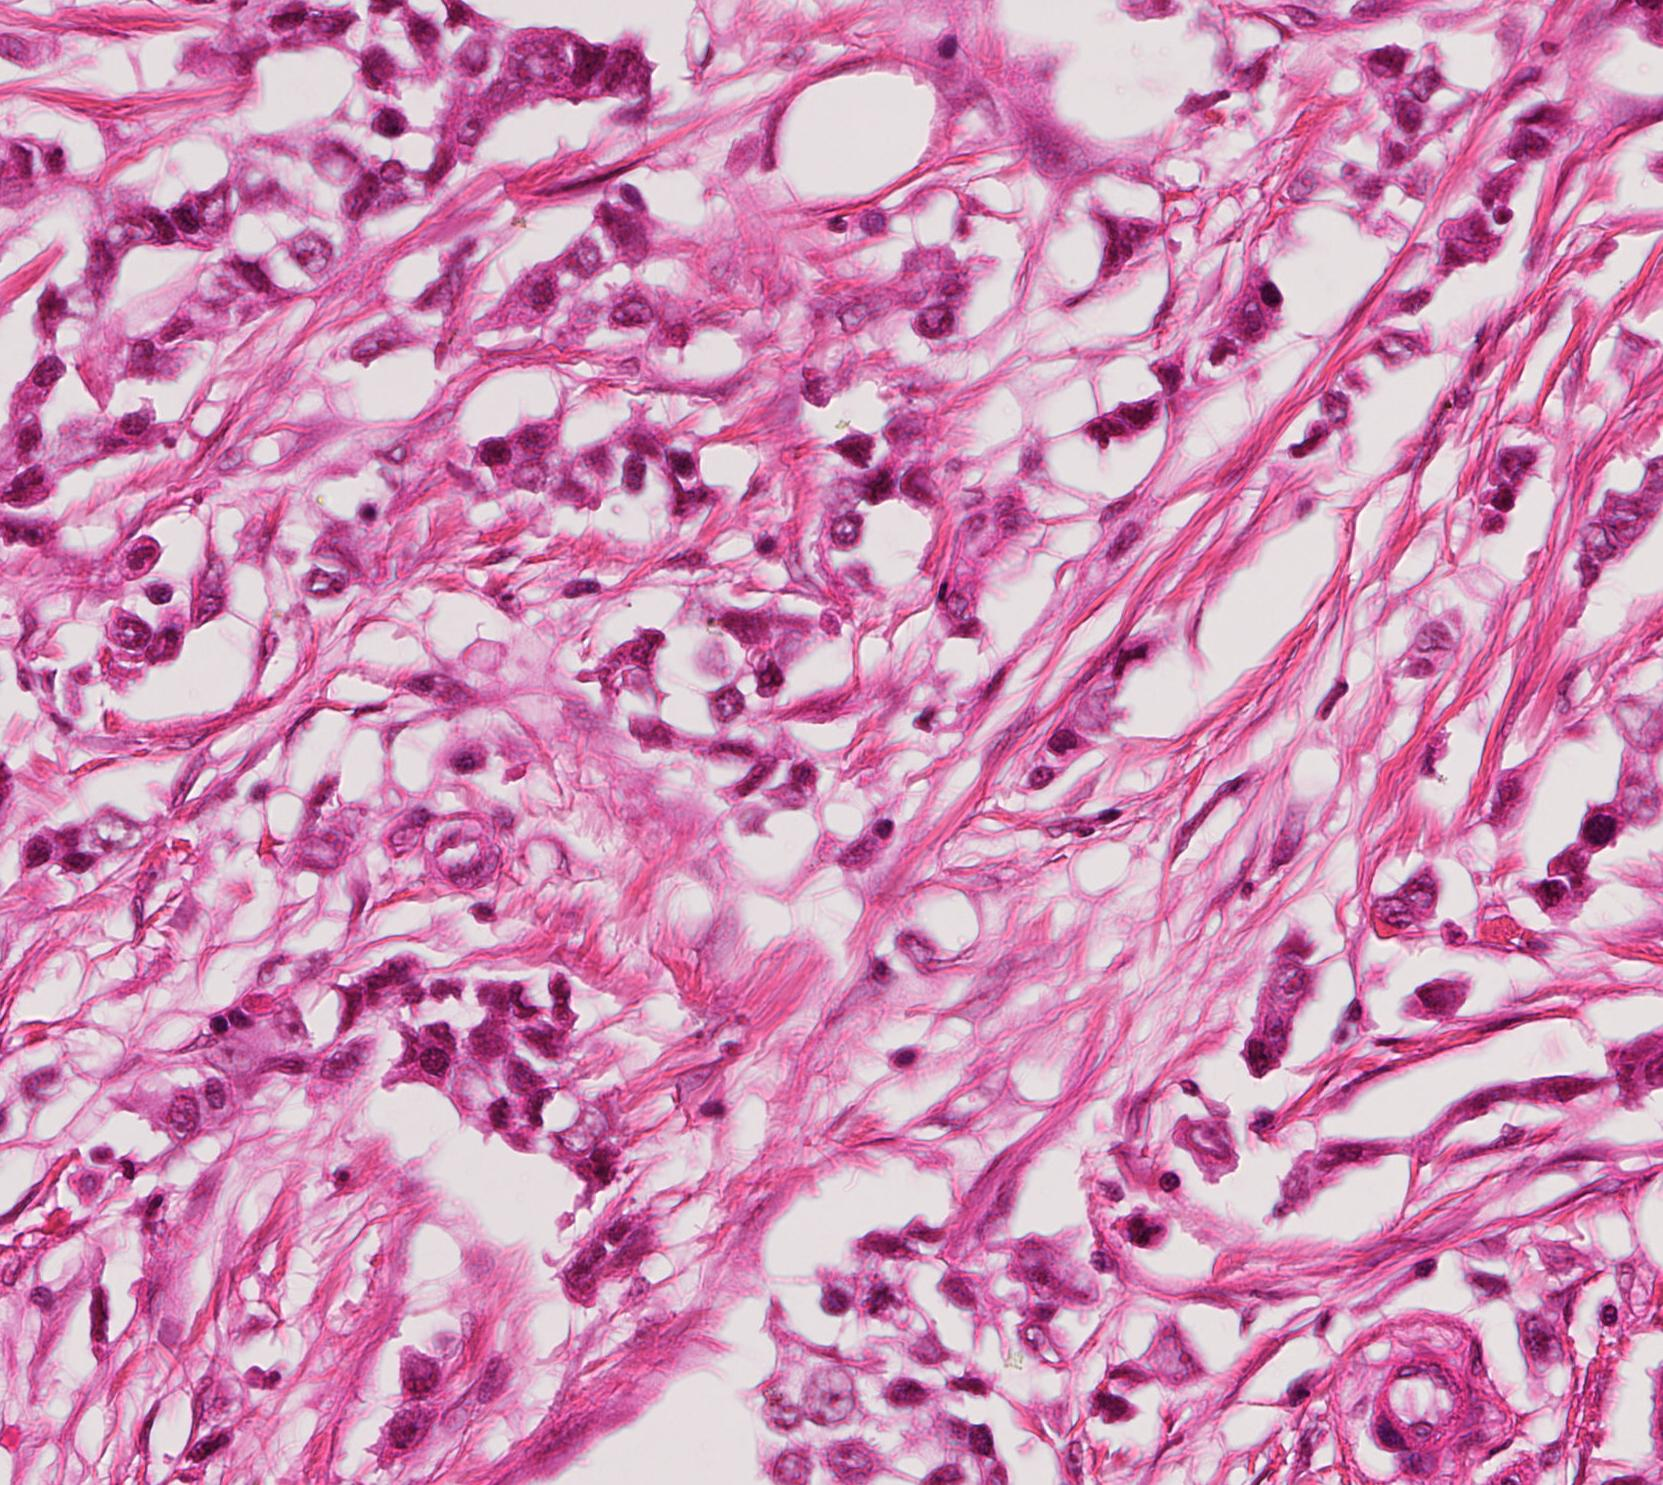mitosis: (1110, 1198, 1170, 1259)
